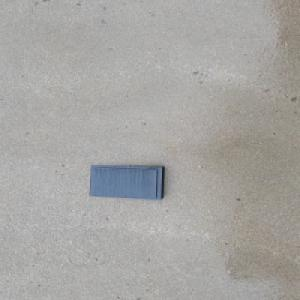PlasticPart: (88, 164, 166, 200)
